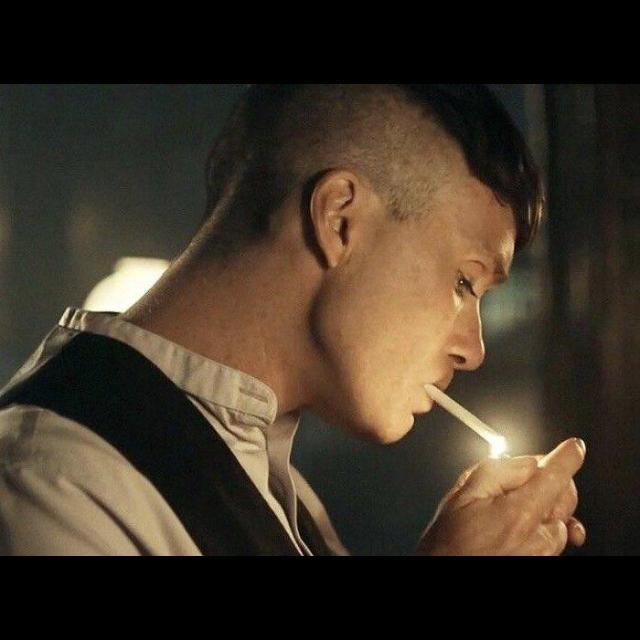rokok: (421, 374, 509, 456)
